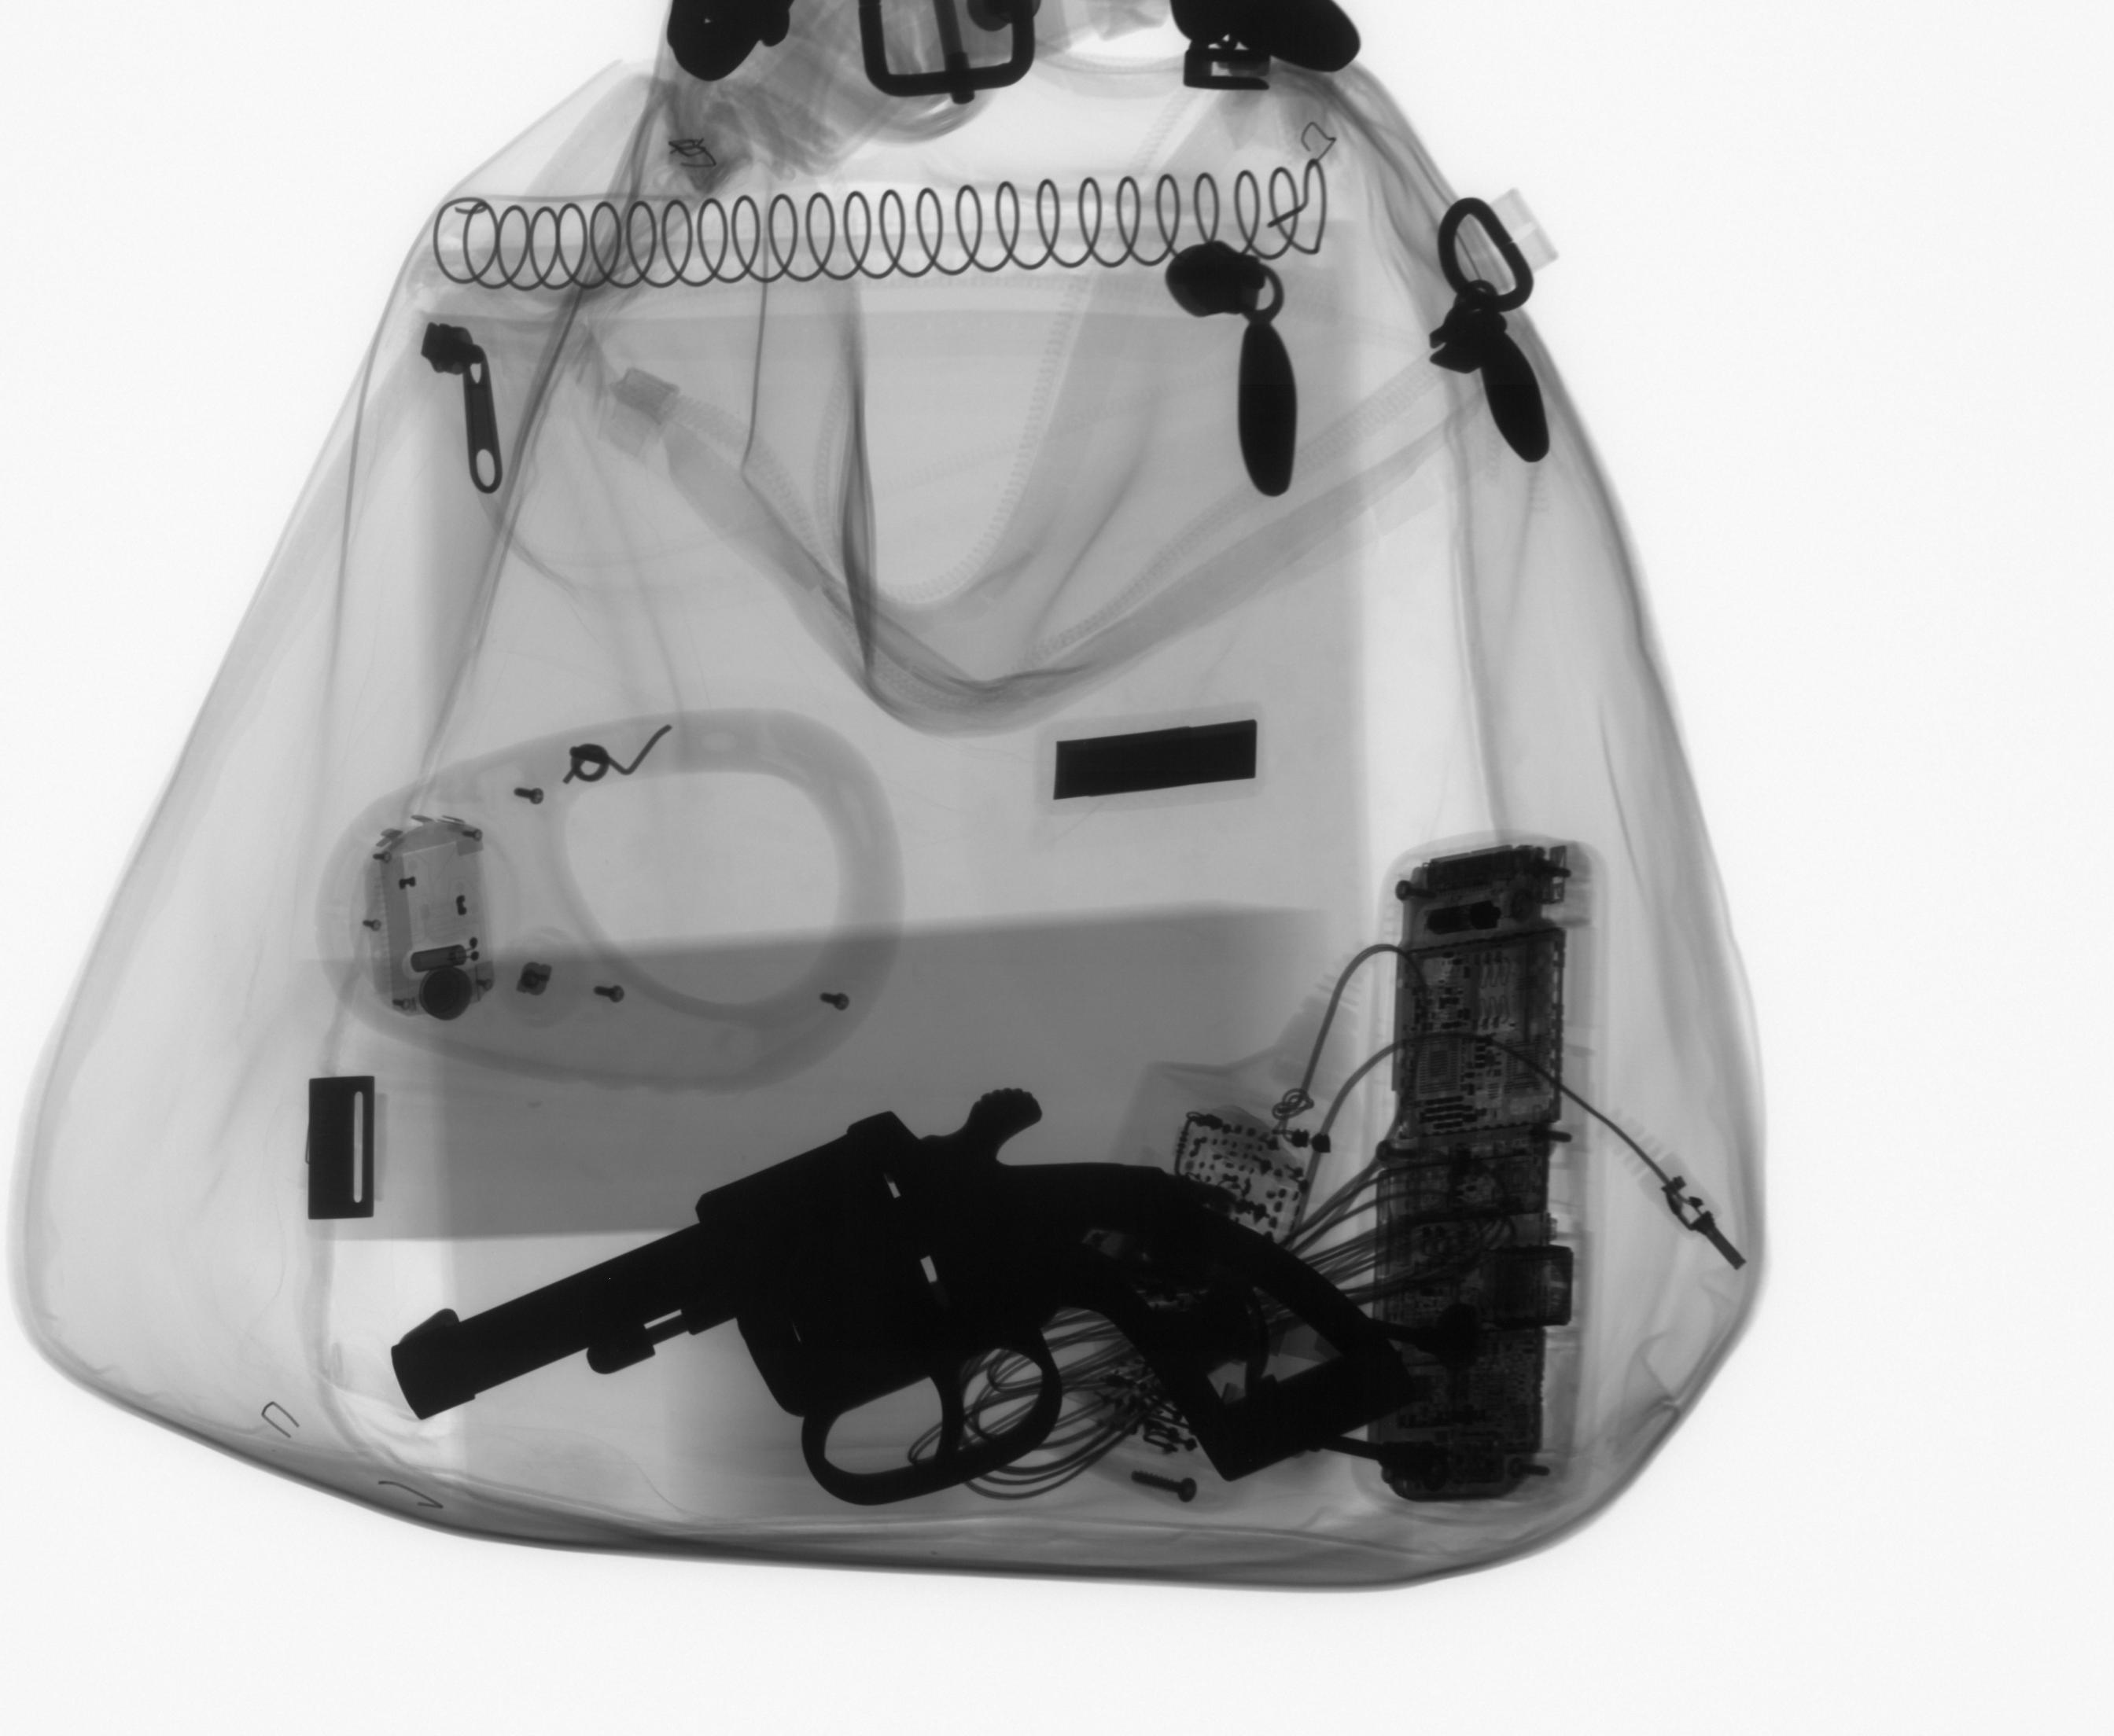Handgun: (383, 1076, 1423, 1513)
